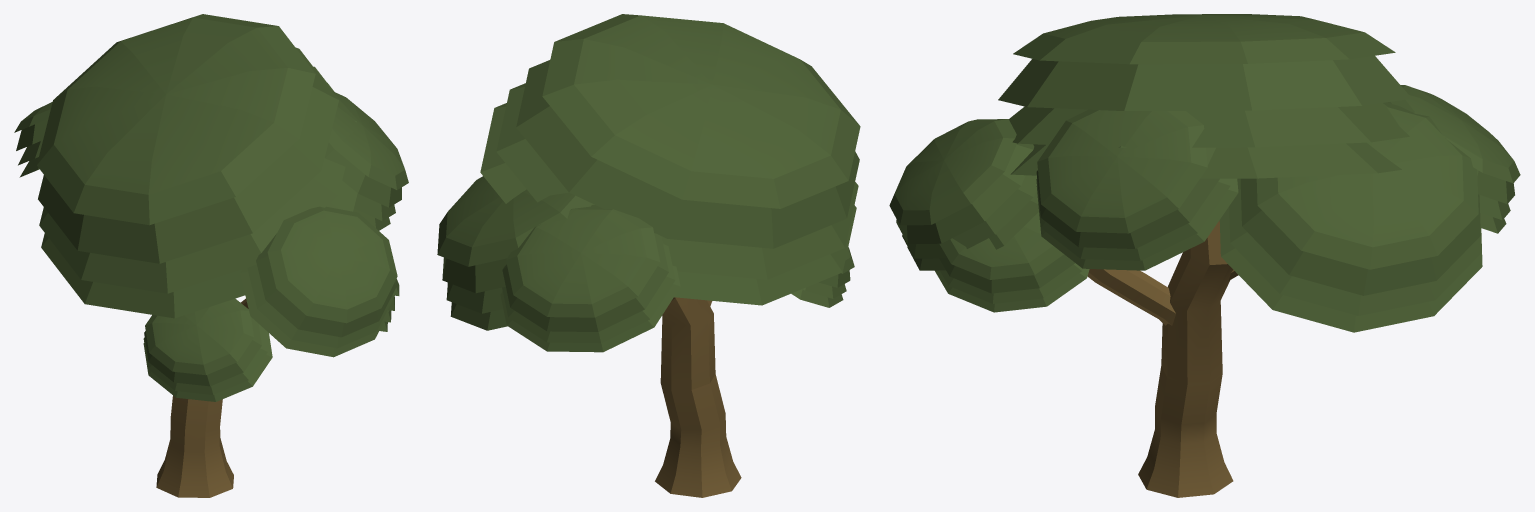
File: Proto_Tree_03.fbx
The picture shows the model from 3 angles, left to right: view 1: azimuth 30°, elevation 25°; view 2: azimuth 150°, elevation 25°; view 3: azimuth 270°, elevation 25°; orthographic projection. The views are drawn at different scales.
Visible parts, largest first — view 1: polySurface1208; view 2: polySurface1208; view 3: polySurface1208.
Part boxes in pixels (x1=…): polySurface1208: x1=14, y1=14, x2=408, y2=497; polySurface1208: x1=437, y1=14, x2=860, y2=497; polySurface1208: x1=889, y1=14, x2=1520, y2=497.
Bounding box in the file's own units: 36.82 × 46.83 × 55.29.
